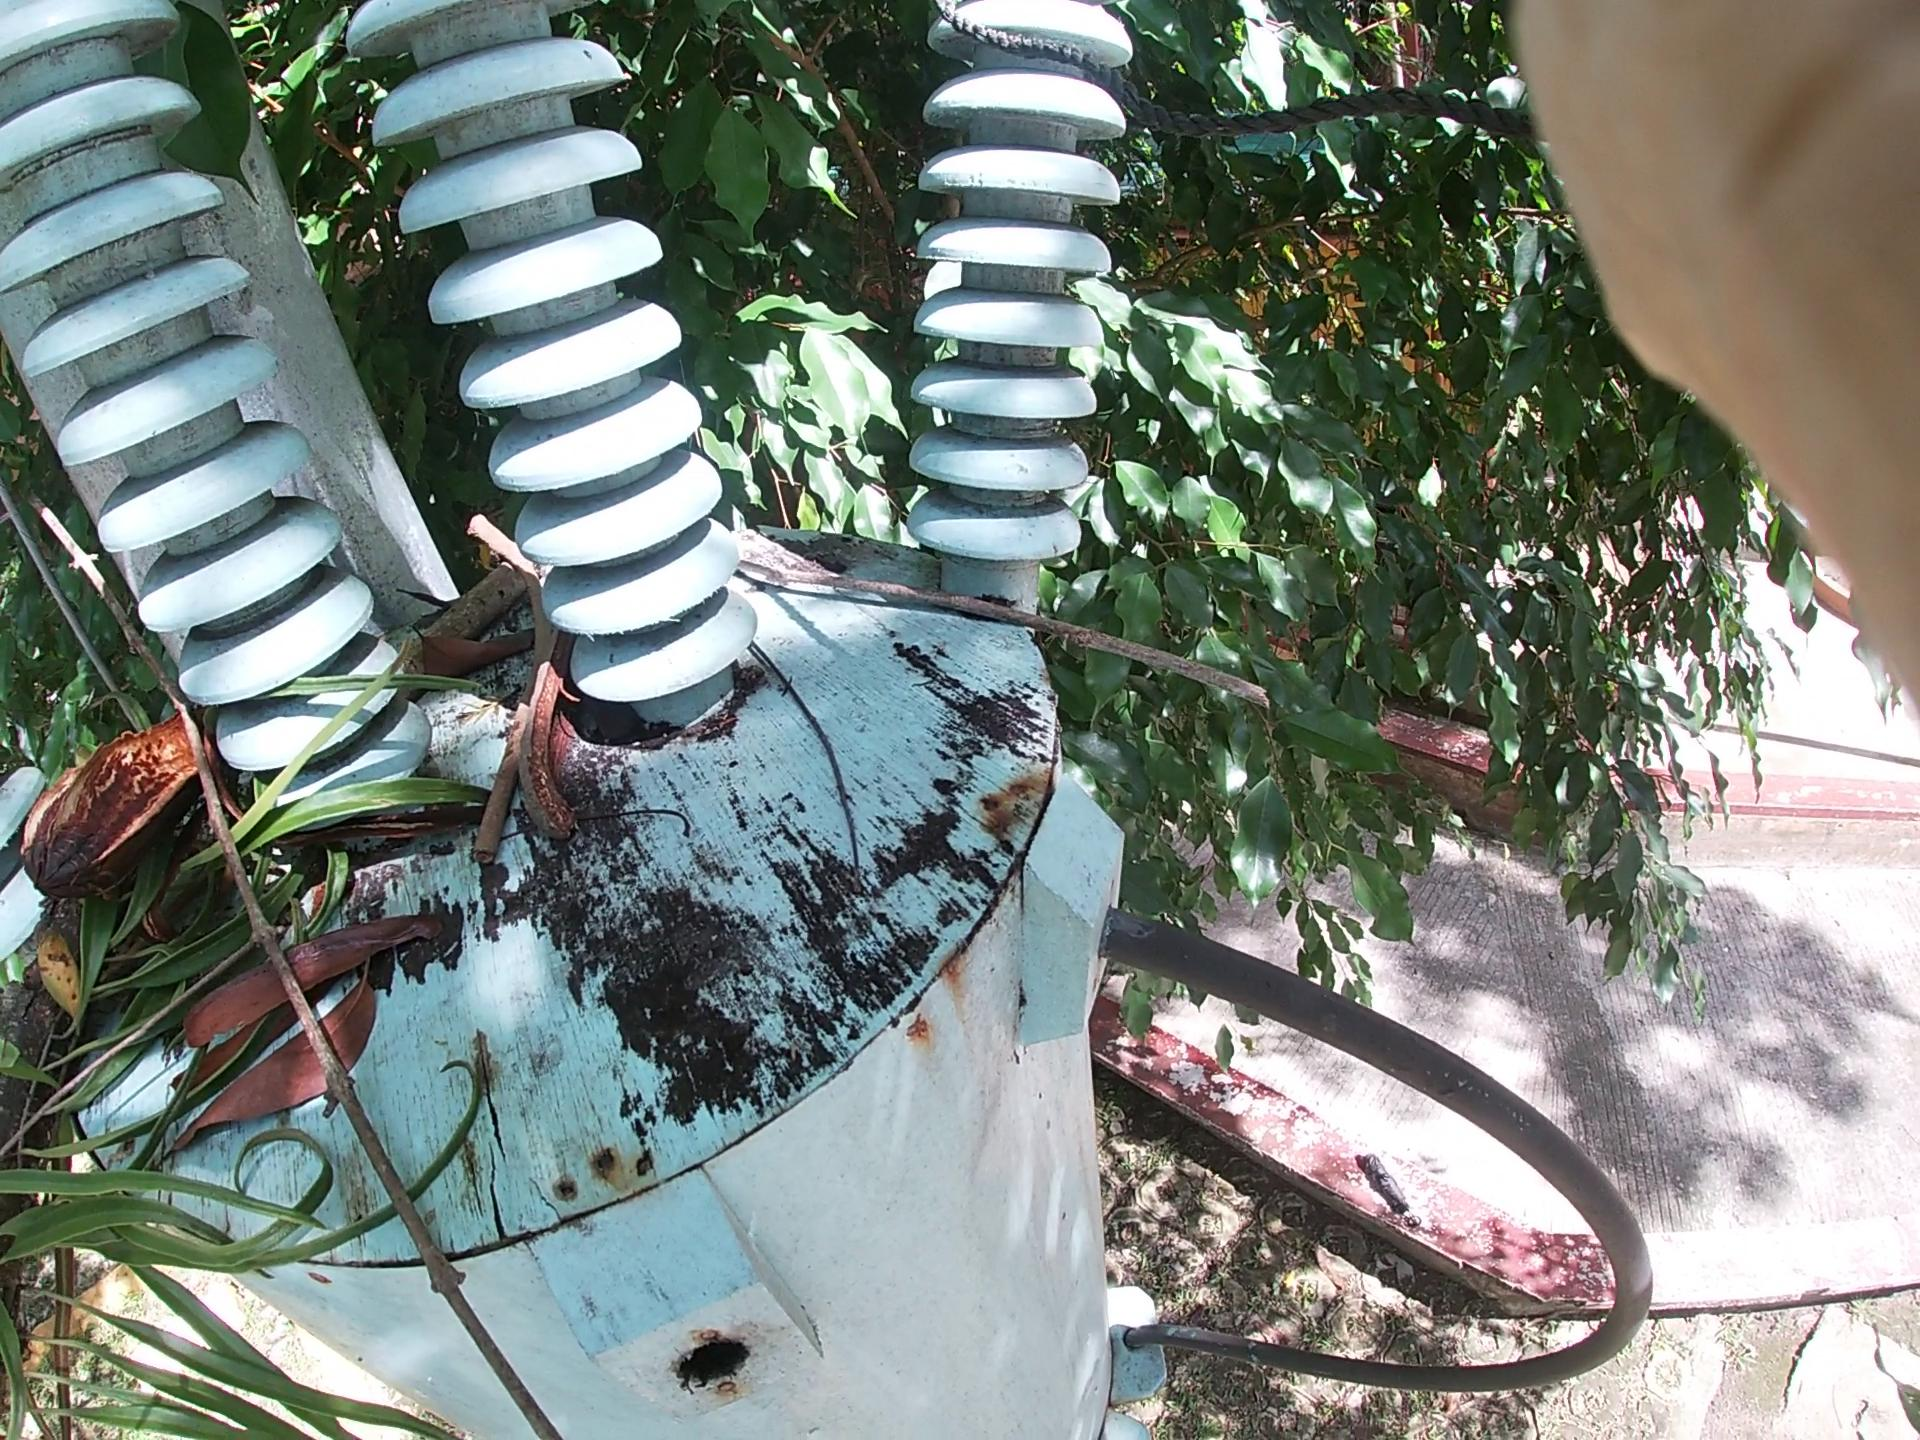branch with leaves: (30, 673, 361, 1440)
leaf: (60, 961, 503, 1122)
mahogany fruit: (444, 601, 650, 873), (33, 691, 219, 939)
tree branch: (791, 517, 1377, 824), (463, 542, 658, 957), (441, 594, 528, 948)
